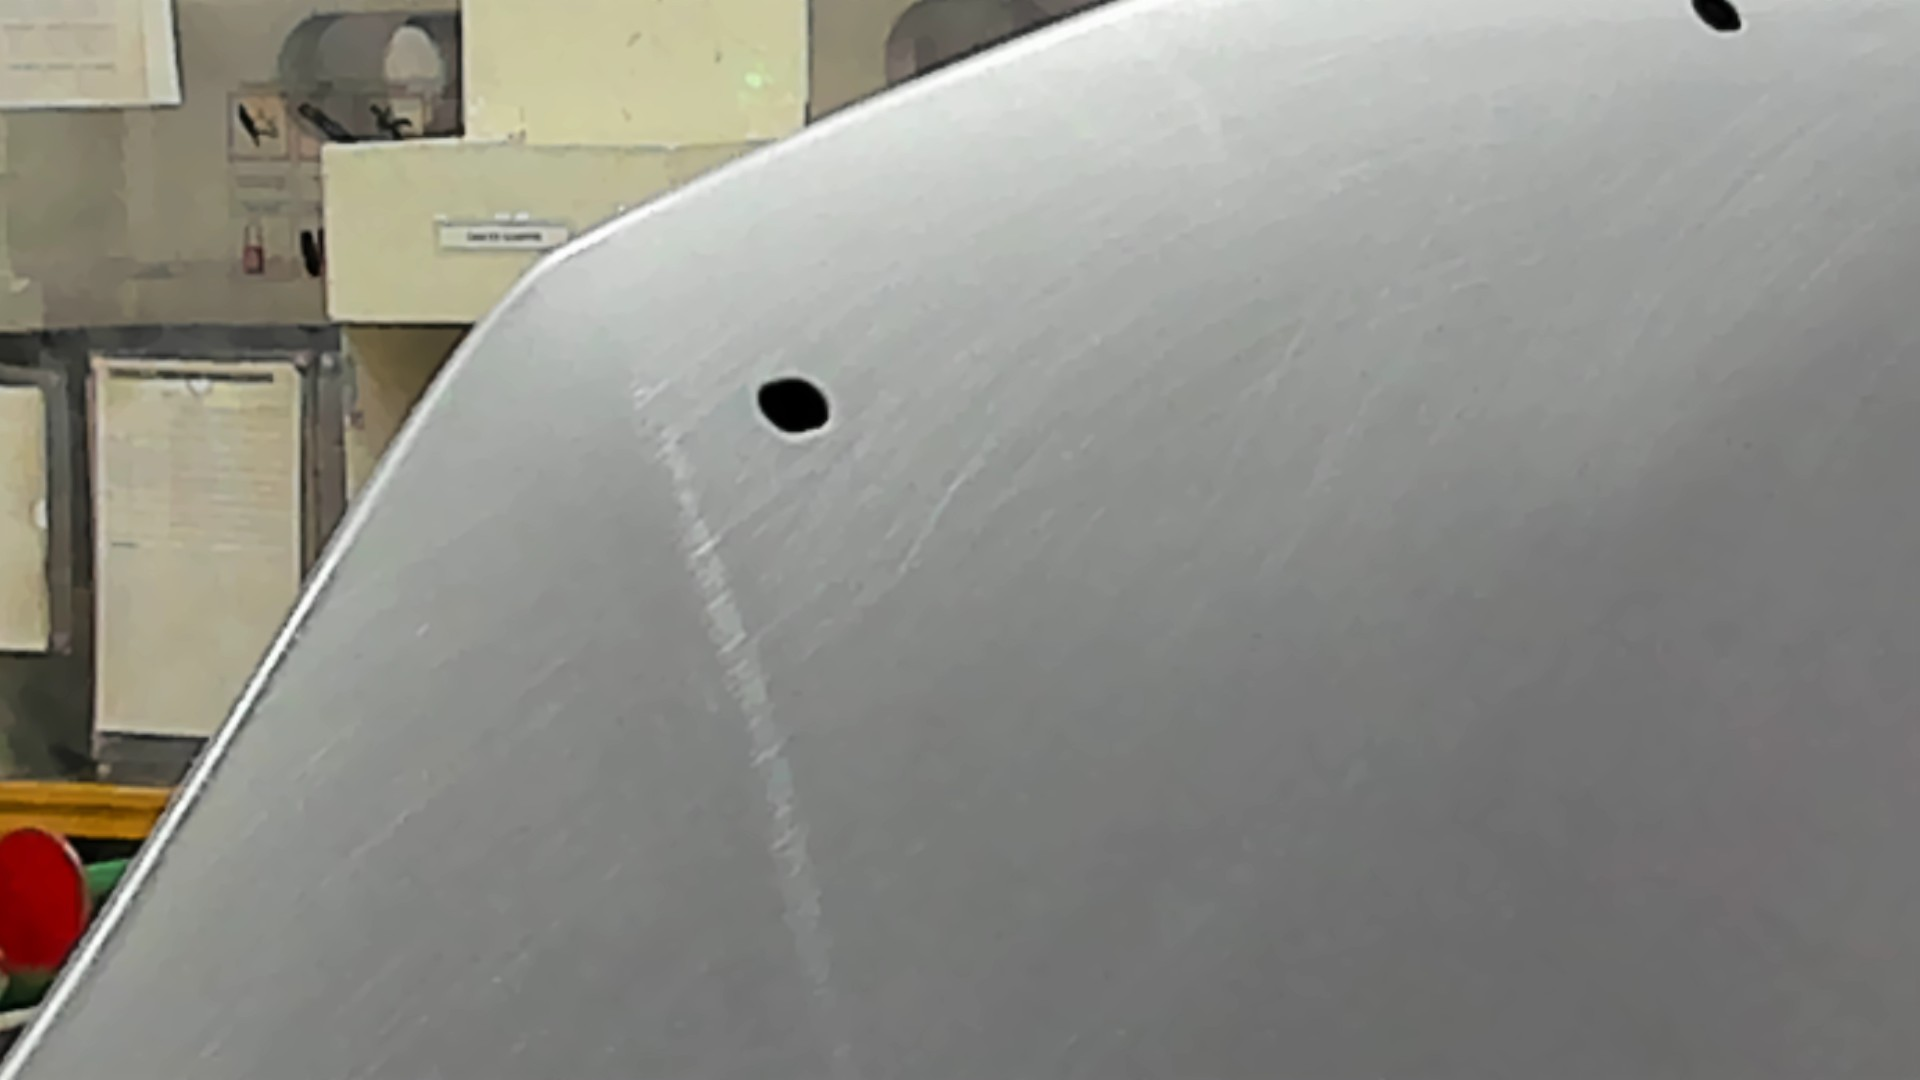chico: (752, 373, 837, 440), (1684, 1, 1750, 42)
